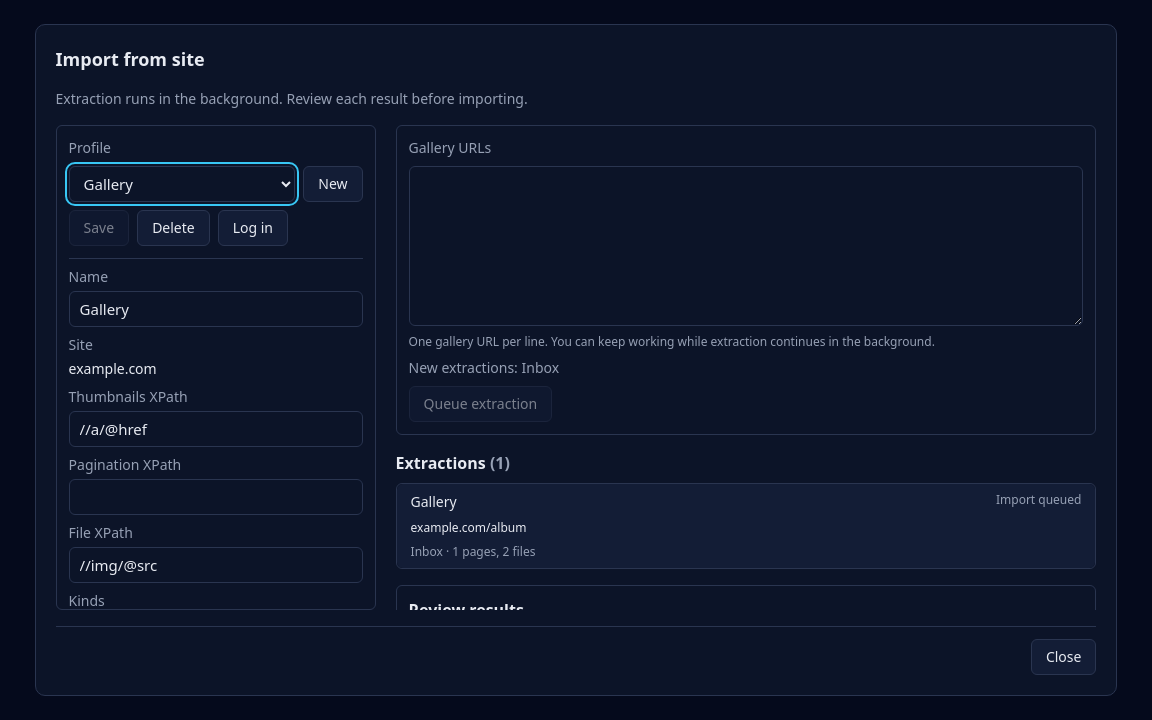
Test: removes an imported extraction directly without cancelling its downloads
Click the button that starts with "Gallery" at (434, 502), box [397,484,1096,568]
(page scrolled)
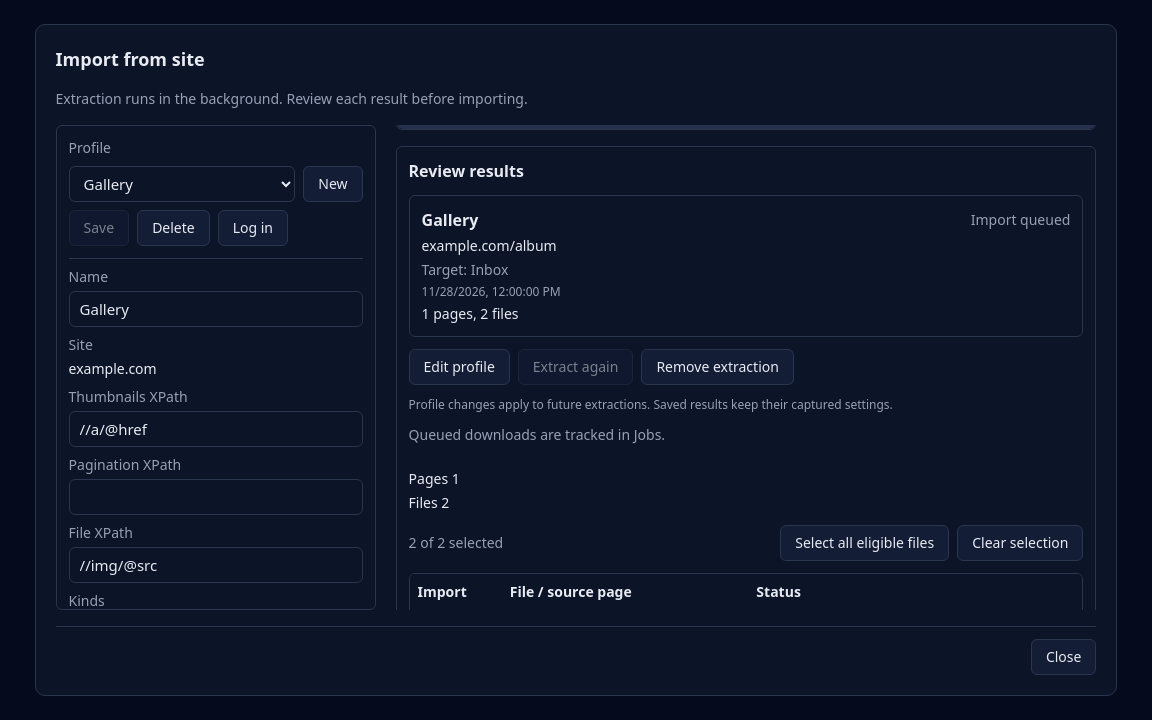
Click the button "Remove extraction" at (718, 367), box [641,349,794,385]
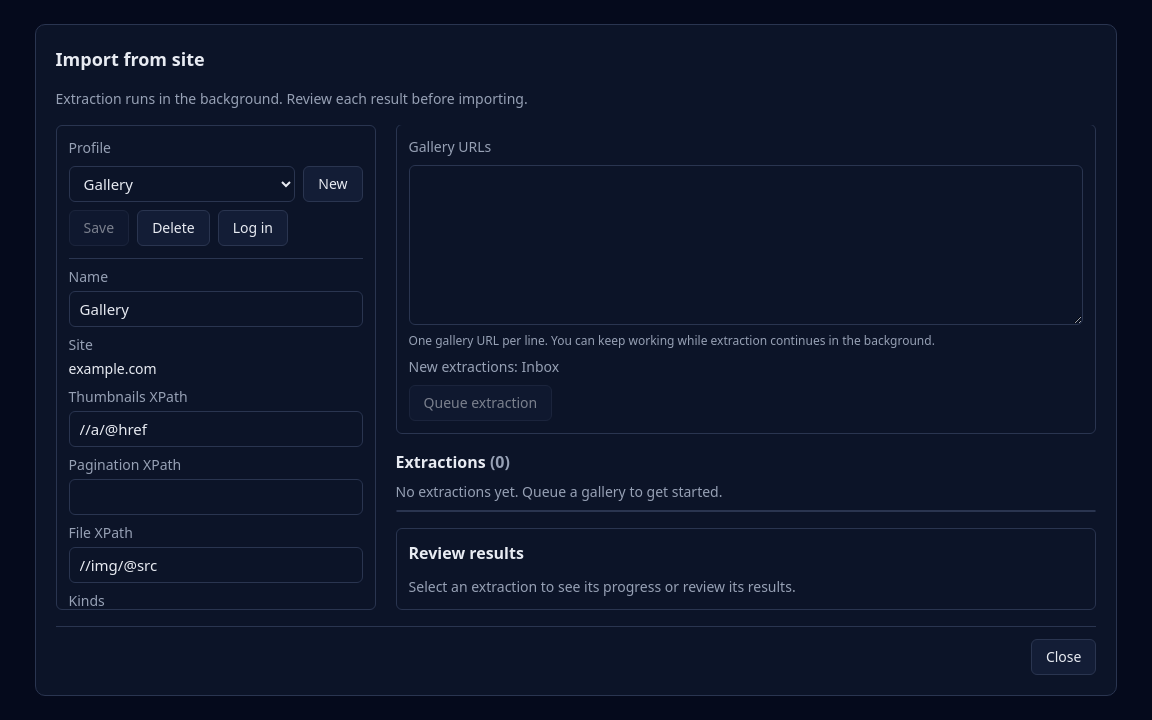
Result: the button "Remove extraction?" is gone
Result: no list items are shown
